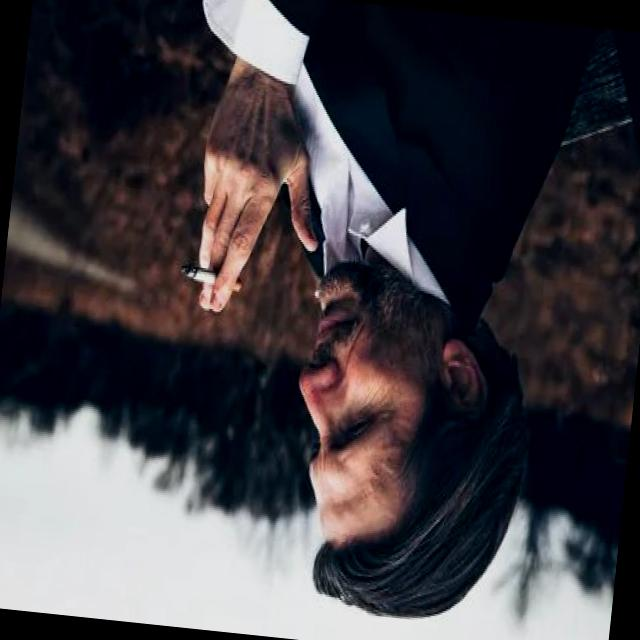smoke: (175, 256, 244, 294)
